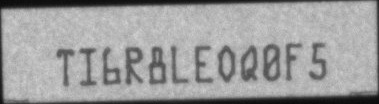0: (262, 43, 281, 82)
5: (308, 42, 328, 80)
6: (101, 46, 120, 85)
8: (147, 45, 167, 85)
E: (192, 43, 213, 83)
F: (284, 41, 302, 82)
I: (79, 47, 97, 86)
L: (170, 45, 189, 84)
O: (217, 45, 237, 83)
Q: (240, 44, 259, 83)
R: (125, 44, 144, 85)
T: (57, 48, 75, 88)
